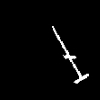double_crochet: (52, 26, 88, 82)
